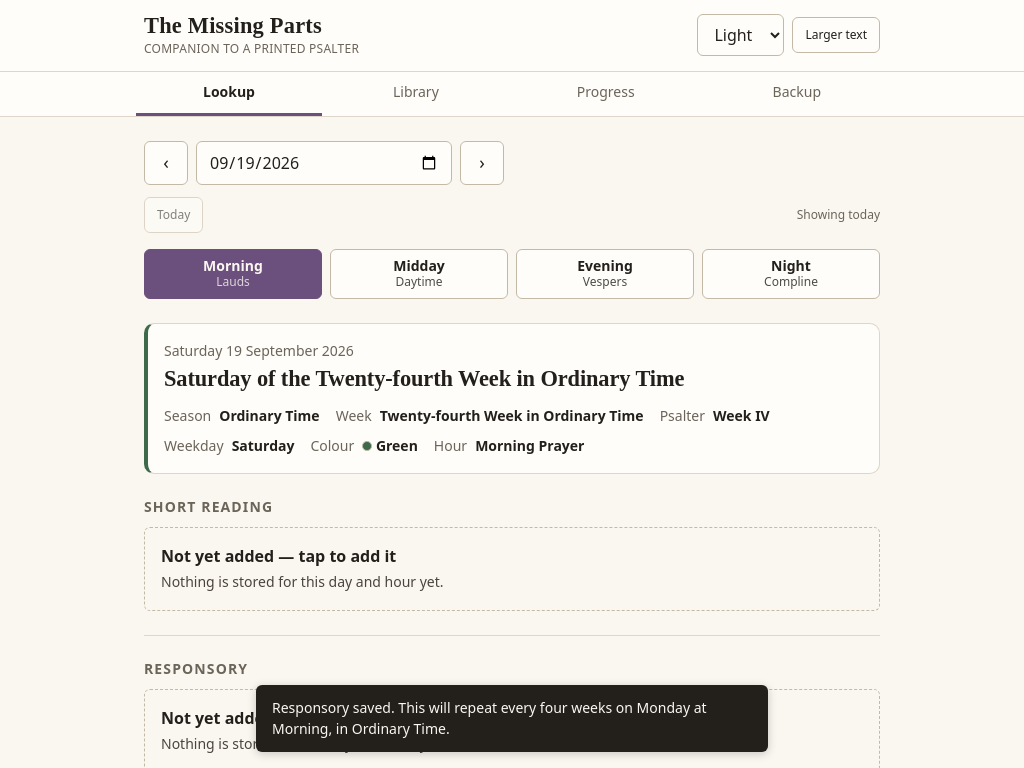
Test: adding and overriding sections through the interface › defaults the concluding prayer to the week of the season
The width and height of the screenshot is (1024, 768).
Type "2026-01-12" into the date field named "Date" at (324, 163), box x1=196 y1=141 x2=452 y2=185
(page scrolled)
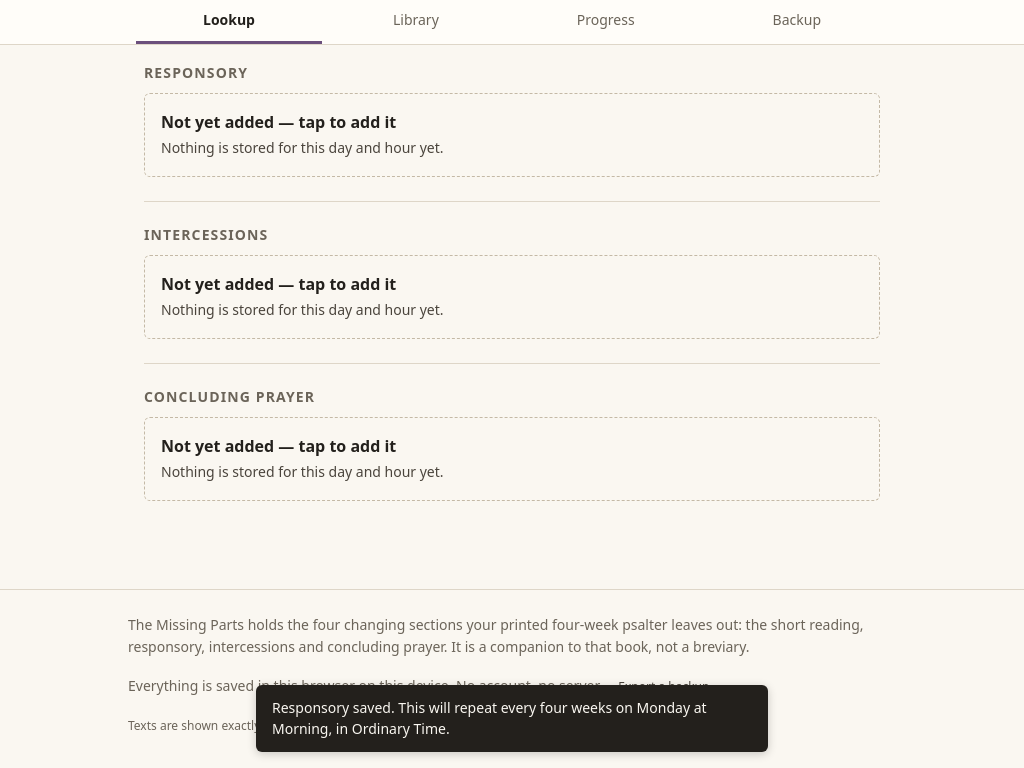
Click the button with aria-label "Add the concluding prayer" at (279, 446), box x1=144 y1=417 x2=880 y2=501
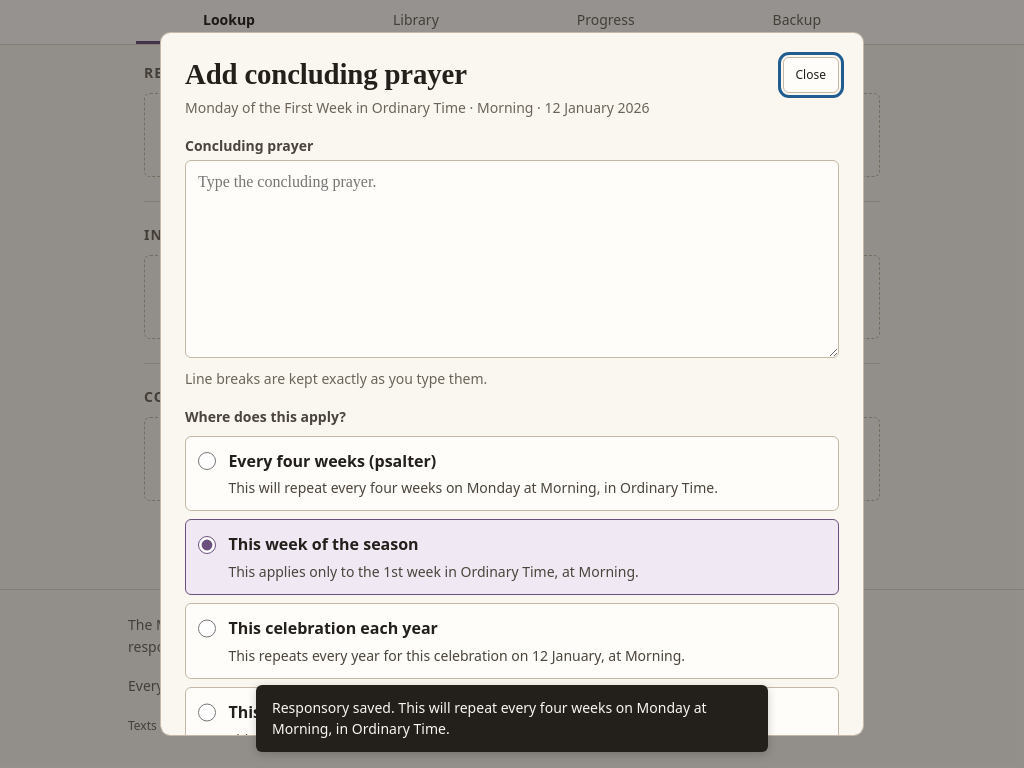
Expected: the radio button labelled "This week of the season" is checked, x1=198 y1=536 x2=216 y2=554
Expected: the text "applies only to the 1st week in Ordinary Time" is shown, x1=228 y1=562 x2=639 y2=581
